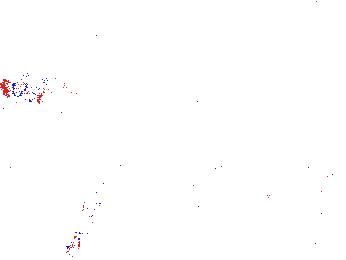X-ray fish: (9, 70, 82, 112)
glassfish: (180, 135, 273, 200), (69, 158, 123, 250)
red belly glassfish: (226, 44, 256, 61)
